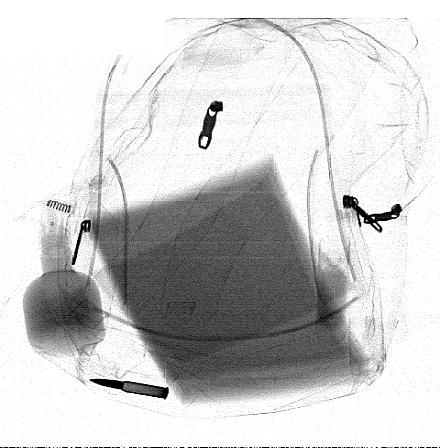Bullet: (86, 377, 170, 400)
